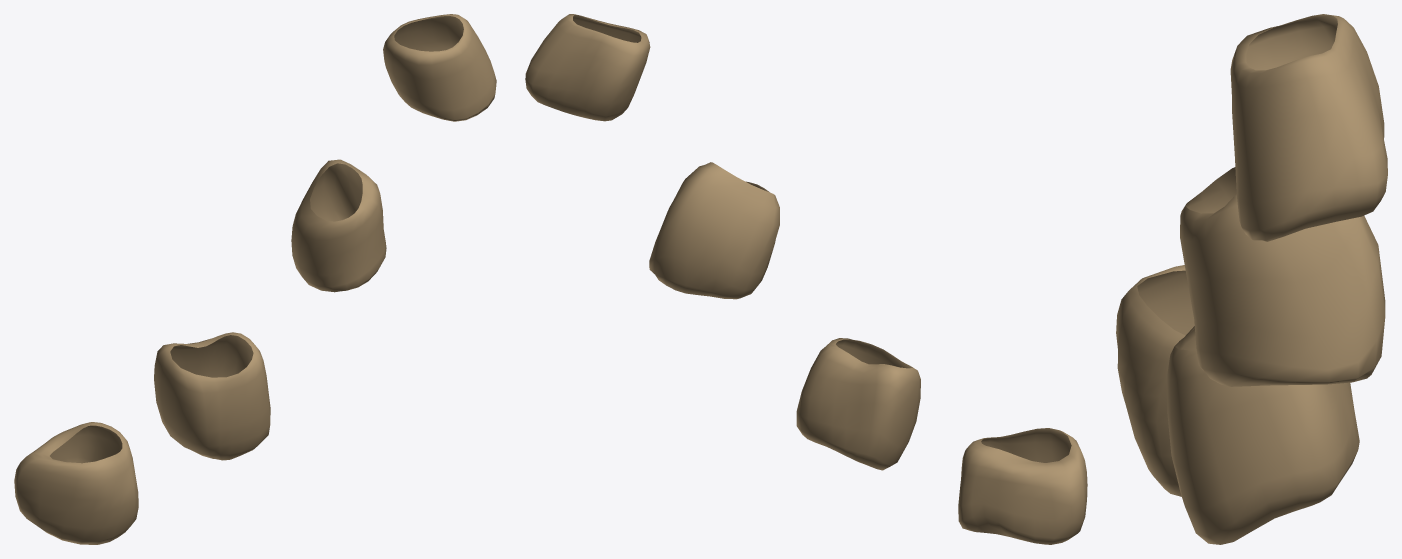
3 renders of one model, left to right at view 1: azimuth 30°, elevation 25°; view 2: azimuth 150°, elevation 25°; view 3: azimuth 270°, elevation 25°, orthographic. The views are drawn at different scales.
Visible parts, largest first — view 1: 左侧足近侧趾间关节囊; view 2: 左侧足近侧趾间关节囊; view 3: 左侧足近侧趾间关节囊.
Boxes of the visible parts, x1,y1,x2,y2 form: 左侧足近侧趾间关节囊: (14,14,496,544); 左侧足近侧趾间关节囊: (525,14,1087,544); 左侧足近侧趾间关节囊: (1116,14,1387,544).
Size of the model in its own units: 0.0762 by 0.0602 by 0.0185.
